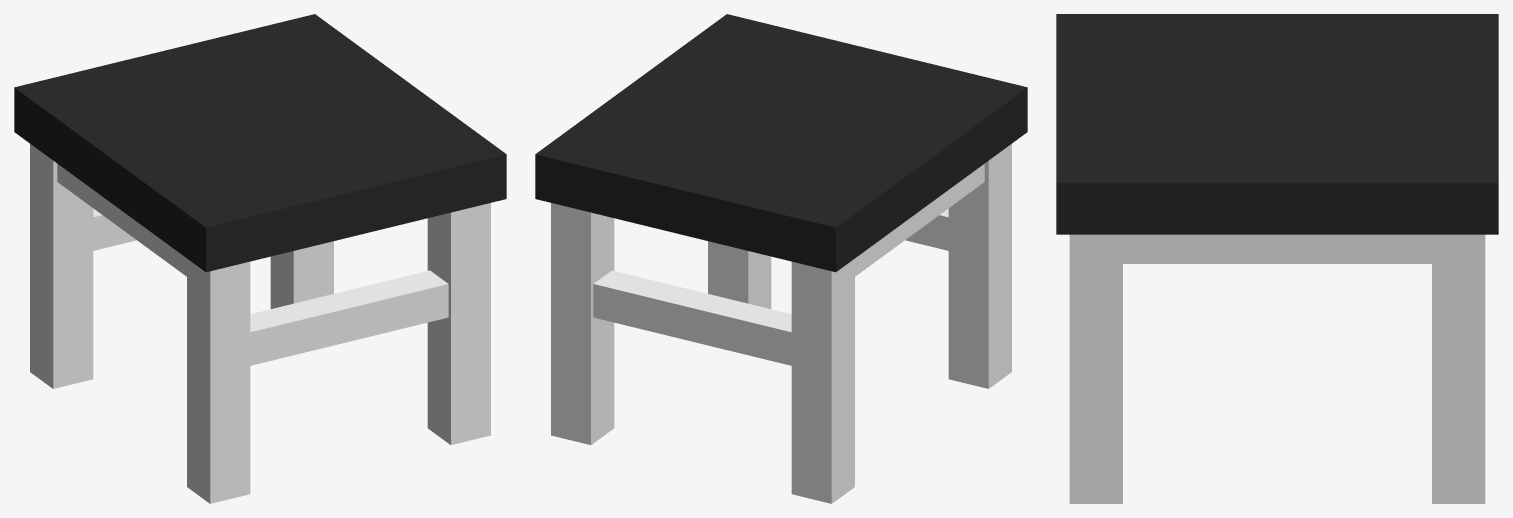
The model's file is Stool_3A.fbx.
3 renders of one model, left to right at view 1: azimuth 30°, elevation 25°; view 2: azimuth 150°, elevation 25°; view 3: azimuth 270°, elevation 25°, orthographic. The views are drawn at different scales.
Visible parts, largest first — view 1: polySurface1511; view 2: polySurface1511; view 3: polySurface1511.
Boxes of the visible parts, x1,y1,x2,y2 form: polySurface1511: (14, 14, 506, 503); polySurface1511: (535, 14, 1027, 503); polySurface1511: (1056, 14, 1498, 503).
Size of the model in its own units: 0.6 by 0.5392 by 0.6625.
Materials: 1 (1 with a texture image).
